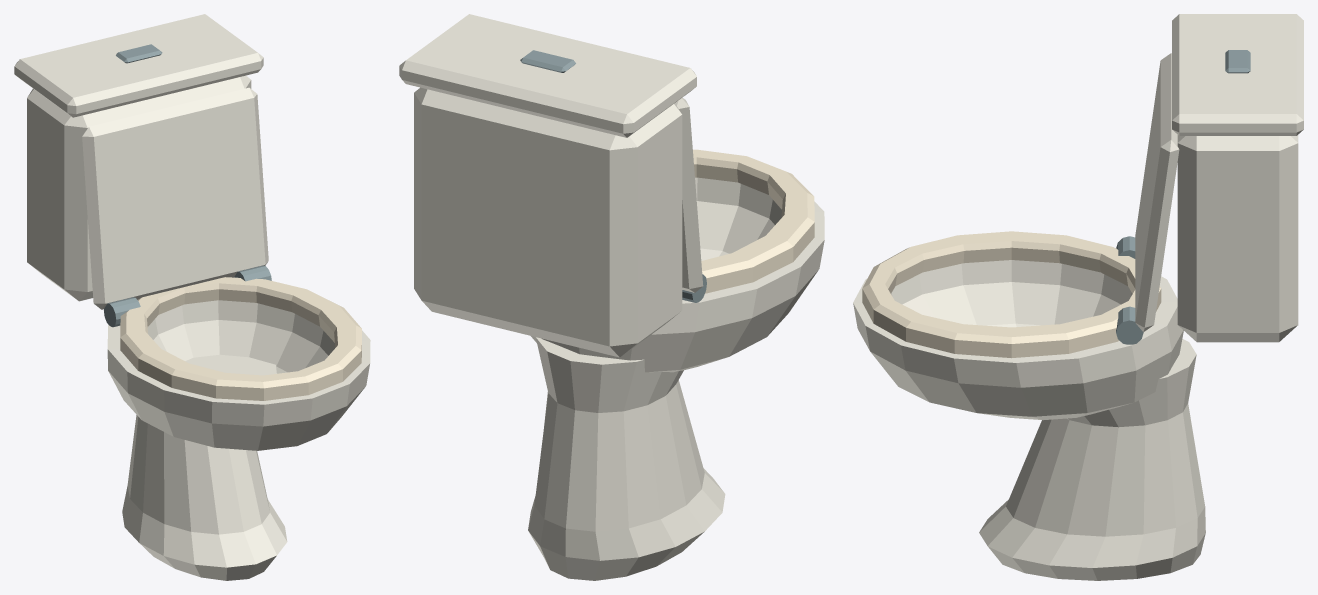
Rendered from Facilities-Toilet.fbx.
The picture shows the model from 3 angles, left to right: view 1: azimuth 30°, elevation 25°; view 2: azimuth 150°, elevation 25°; view 3: azimuth 270°, elevation 25°; orthographic projection. The views are drawn at different scales.
Visible parts, largest first — view 1: Raised Seat Lid, Bowl | Outer Wall and Open Basin, Pedestal, Tank Lid, Seat Ring, Tank, Seat Hinge, Flush Button; view 2: Tank, Pedestal, Tank Lid, Bowl | Outer Wall and Open Basin, Seat Ring, Raised Seat Lid, Flush Button; view 3: Pedestal, Bowl | Outer Wall and Open Basin, Tank, Seat Ring, Tank Lid, Raised Seat Lid, Seat Hinge.001, Flush Button.
Boxes of the visible parts, left/top/right/bottom form: Raised Seat Lid: left=82, top=87, right=268, bottom=309; Bowl | Outer Wall and Open Basin: left=107, top=300, right=370, bottom=450; Pedestal: left=122, top=354, right=287, bottom=580; Tank Lid: left=14, top=14, right=263, bottom=117; Seat Ring: left=120, top=277, right=361, bottom=400; Tank: left=27, top=75, right=251, bottom=301; Seat Hinge: left=104, top=297, right=140, bottom=327; Flush Button: left=116, top=44, right=162, bottom=63; Tank: left=414, top=87, right=682, bottom=357; Pedestal: left=528, top=337, right=725, bottom=580; Tank Lid: left=399, top=14, right=696, bottom=137; Bowl | Outer Wall and Open Basin: left=531, top=177, right=824, bottom=372; Seat Ring: left=693, top=149, right=814, bottom=293; Raised Seat Lid: left=675, top=97, right=703, bottom=292; Flush Button: left=520, top=50, right=575, bottom=72; Pedestal: left=979, top=339, right=1205, bottom=580; Bowl | Outer Wall and Open Basin: left=853, top=260, right=1183, bottom=420; Tank: left=1177, top=135, right=1298, bottom=342; Seat Ring: left=862, top=231, right=1161, bottom=358; Tank Lid: left=1172, top=14, right=1303, bottom=135; Raised Seat Lid: left=1135, top=53, right=1179, bottom=332; Seat Hinge.001: left=1116, top=306, right=1143, bottom=344; Flush Button: left=1225, top=50, right=1250, bottom=73.
Size of the model in its own units: 0.436 by 0.834 by 0.6875.
